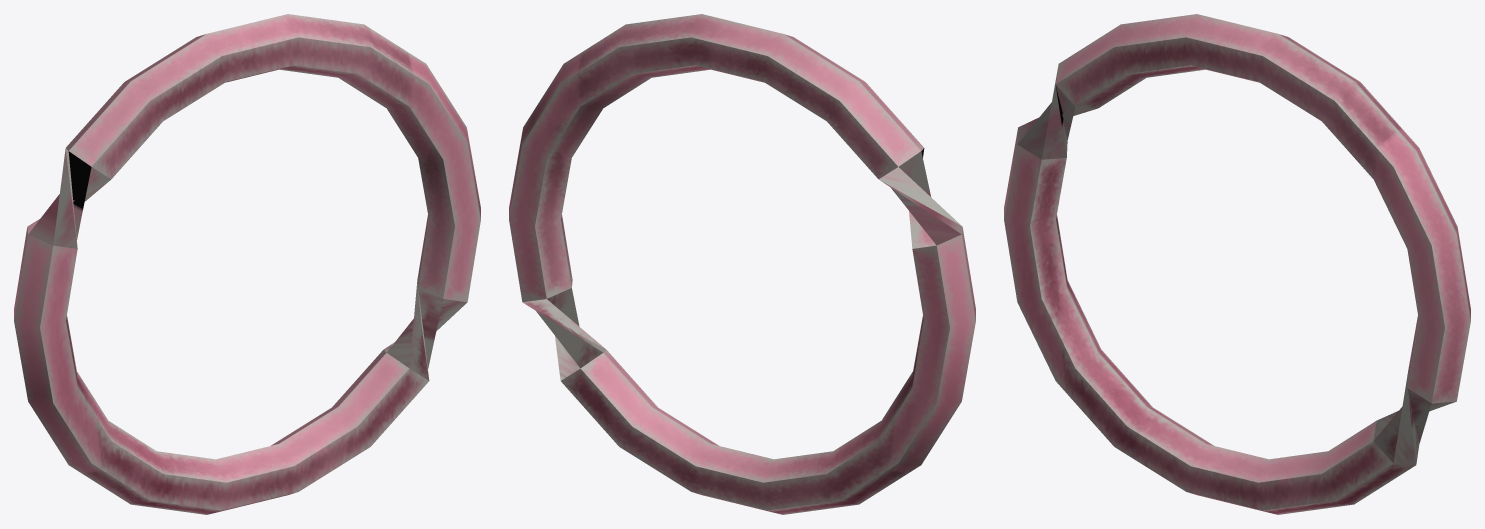
Rendered from Tendril Tether_ChainLink.fbx.
3 renders of one model, left to right at view 1: azimuth 30°, elevation 25°; view 2: azimuth 150°, elevation 25°; view 3: azimuth 330°, elevation 25°, orthographic.
Visible parts, largest first — view 1: Tendril Tether_ChainLink; view 2: Tendril Tether_ChainLink; view 3: Tendril Tether_ChainLink.
Part boxes in pixels (x1,y1,x2,y2): Tendril Tether_ChainLink: (14,14,480,514); Tendril Tether_ChainLink: (509,14,975,514); Tendril Tether_ChainLink: (1004,14,1470,514).
Size of the model in its own units: 0.27 by 0.2659 by 0.026.
